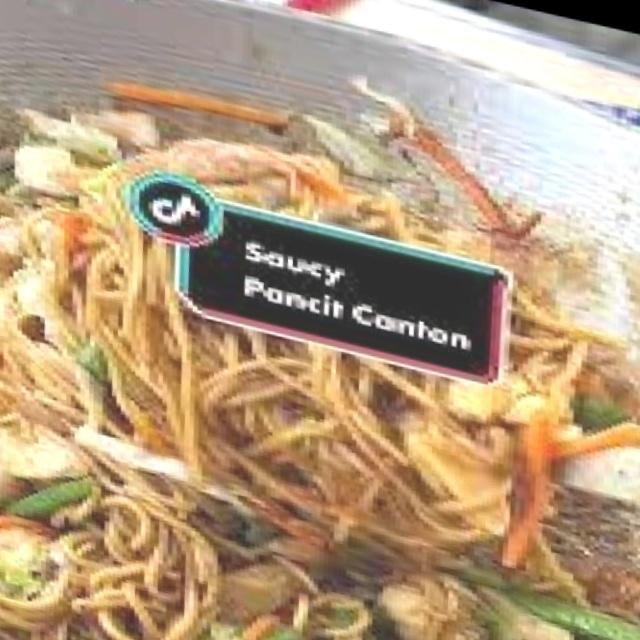pancit bihon: (0, 118, 639, 639)
